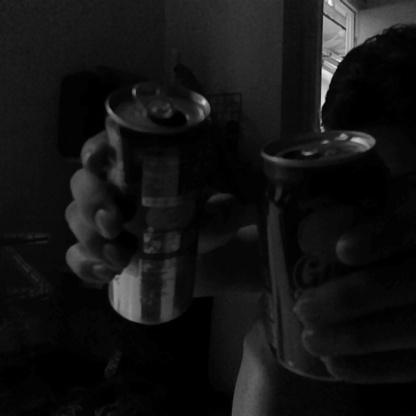alumunium_can: (259, 121, 378, 383), (104, 82, 208, 322)
